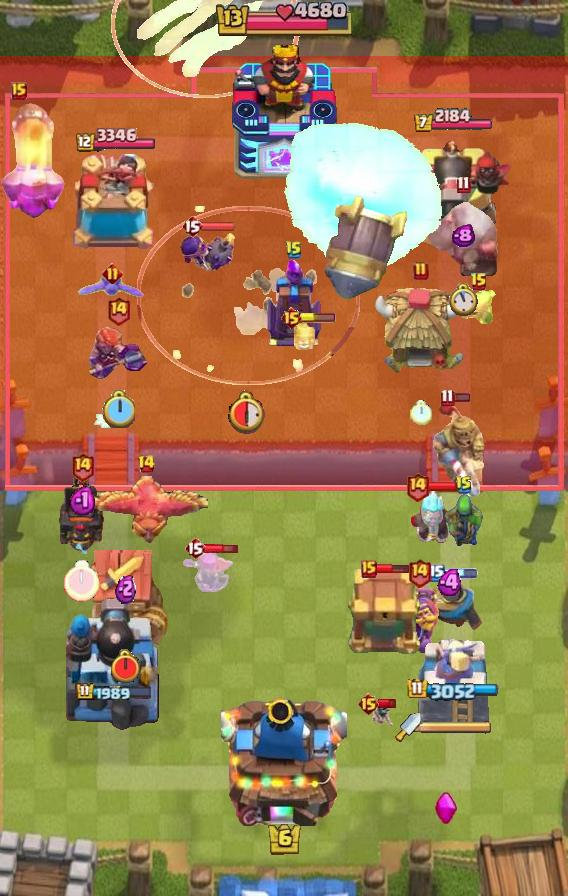archer-evolution: (57, 472, 107, 554)
bar: (416, 637, 490, 731)
barbarian: (77, 274, 147, 300)
bat-evolution: (459, 290, 499, 324)
bomb: (343, 568, 421, 656)
clock: (213, 2, 355, 40)
electro-spirit: (69, 485, 95, 516), (437, 569, 465, 596), (115, 573, 137, 603), (451, 224, 475, 248)
elixir: (228, 389, 269, 434), (64, 560, 100, 602), (101, 390, 134, 428), (109, 649, 143, 685), (449, 283, 478, 317), (410, 399, 432, 424)
emote: (204, 541, 240, 554), (442, 568, 478, 580), (200, 220, 236, 231), (374, 563, 410, 574), (427, 481, 461, 492), (300, 313, 336, 323), (452, 392, 471, 403), (379, 698, 398, 709)
evolution-symbol: (183, 545, 235, 605)
firecracker: (419, 576, 483, 631)
firecracker-evolution: (397, 587, 441, 655)
furnace: (0, 100, 68, 220)
giant-snowball: (444, 492, 484, 550)
goblin-ball: (178, 231, 236, 275)
guard: (137, 206, 360, 385)
heal-spirit: (371, 700, 397, 730)
ice-spirit-evolution: (289, 319, 319, 353)
ice-spirit-evolution-symbol: (264, 256, 324, 348)
ice-wizard: (111, 0, 301, 98)
king-tower: (221, 690, 347, 826), (230, 41, 338, 181)
king-tower-bar: (421, 720, 493, 734)
mega-knight: (281, 122, 447, 272)
mortar: (401, 487, 463, 547)
mother-witch: (84, 476, 208, 550)
prince: (374, 286, 468, 376)
queen-tower: (66, 154, 162, 256)
ram-rider: (429, 402, 489, 502)
royal-guardian: (424, 196, 502, 276)
selected: (407, 677, 499, 701), (73, 128, 155, 154), (414, 108, 495, 134), (75, 681, 153, 702)
skeleton-king-skill: (434, 791, 458, 825)
sparky: (82, 549, 168, 647)
tesla-evolution: (86, 324, 150, 382)
text: (105, 294, 130, 325), (69, 450, 94, 481), (405, 471, 430, 502), (408, 557, 433, 588), (281, 306, 304, 330), (356, 692, 379, 716), (181, 214, 203, 238), (184, 536, 206, 560), (101, 264, 122, 285), (136, 454, 155, 474), (285, 240, 303, 260), (470, 272, 488, 292), (455, 475, 473, 495), (413, 261, 429, 281), (11, 82, 27, 100), (361, 560, 377, 578), (429, 564, 445, 582), (440, 388, 455, 407), (456, 175, 471, 193)
tower-bar: (392, 138, 514, 256), (66, 595, 162, 731)
x-bow: (324, 195, 408, 302)
